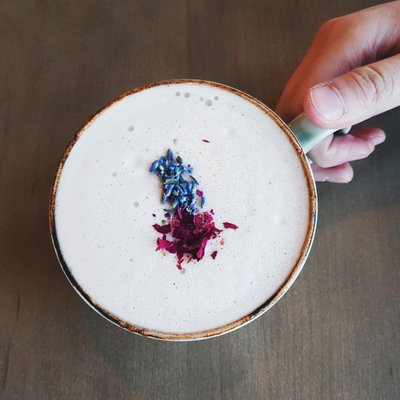sushi: (29, 77, 320, 346)
